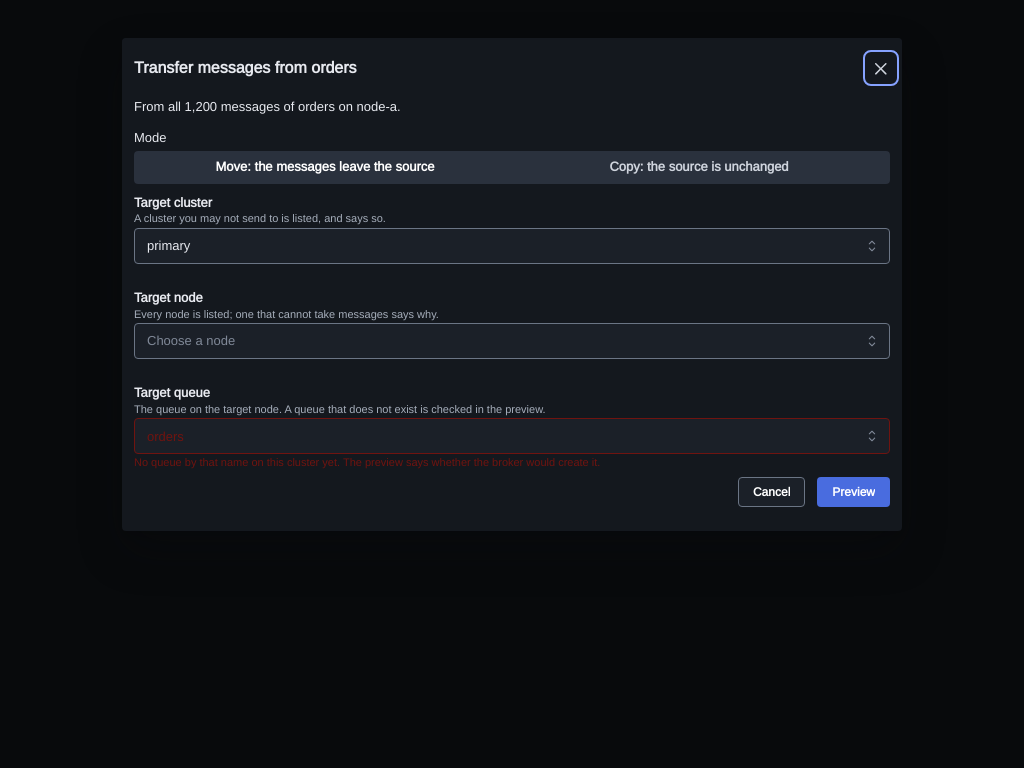
Scenario: TransferDialog destination › targets another cluster, whose nodes are all choosable, and names it in the preview
Click the dropdown labelled "Target cluster" at (512, 246), box [134,228,890,264]
(page scrolled)
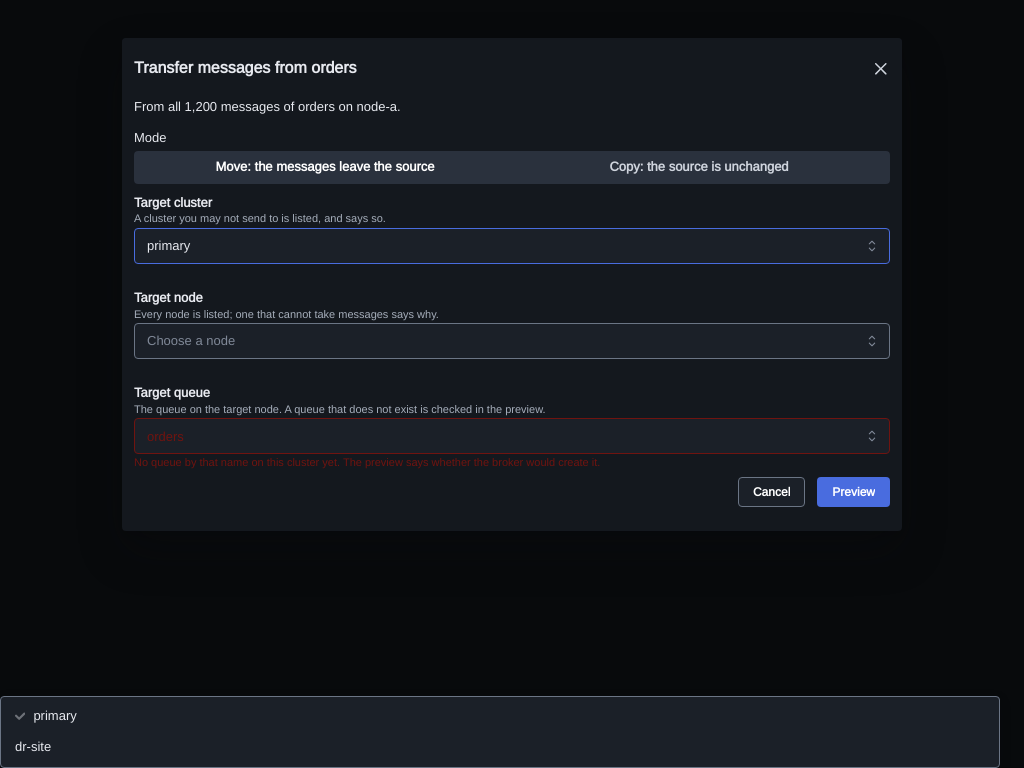
Click the option "dr-site" at (33, 746), box [15,738,51,755]
(page scrolled)
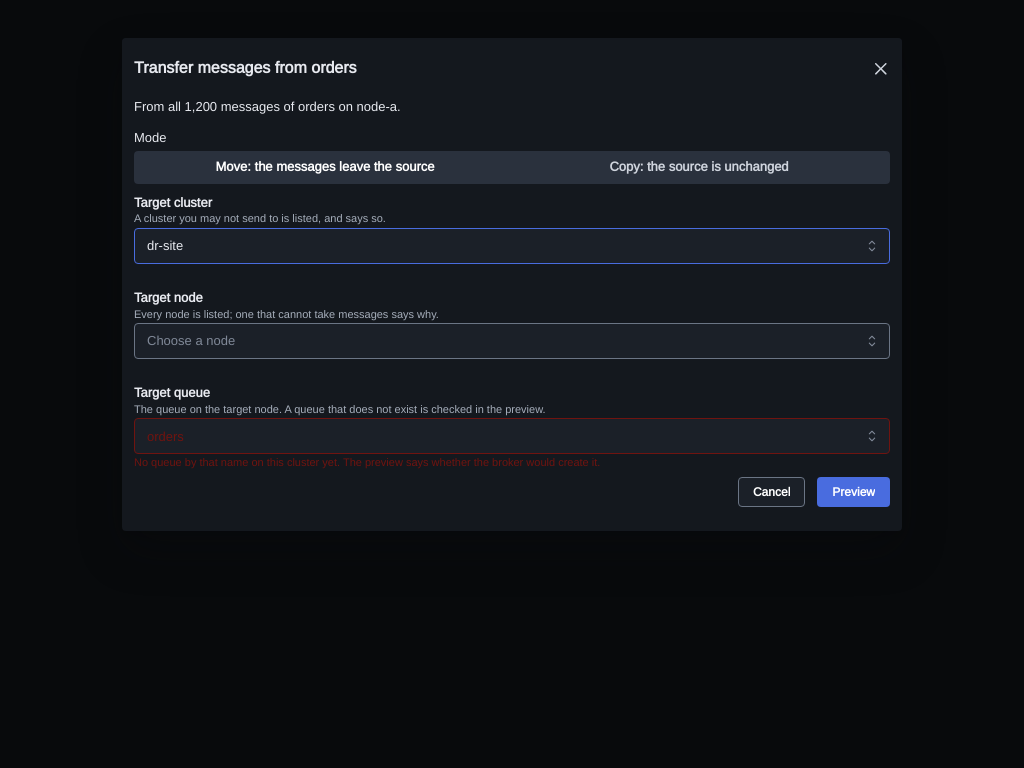
Click the dropdown labelled "Target node" at (512, 341), box [134,323,890,359]
(page scrolled)
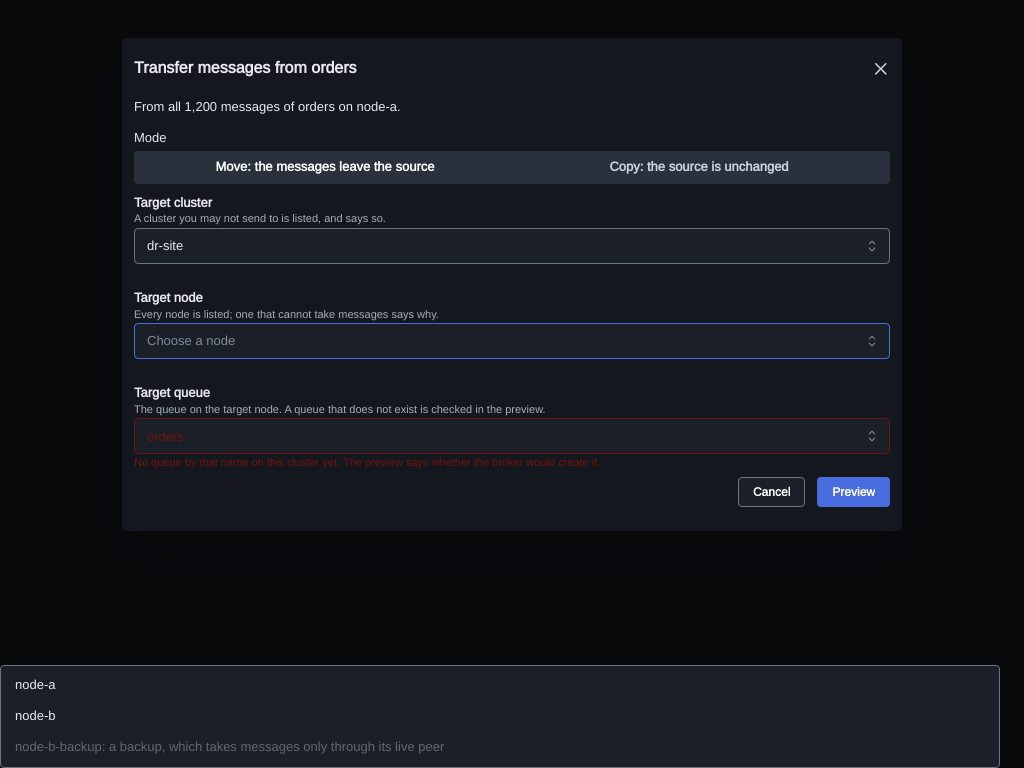
Click the option "node-a" at (35, 684), box [15,676,56,693]
(page scrolled)
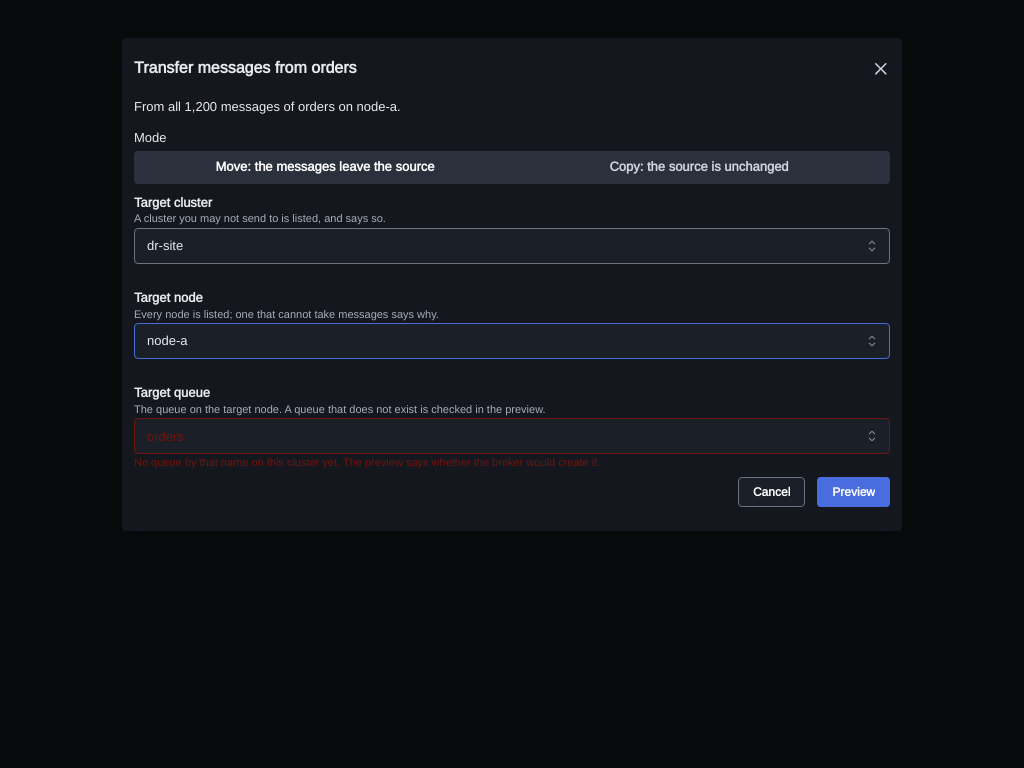
Replace the text in the field labelled "Target queue" with "  orders-dr  " at (512, 436), box [134,418,890,454]
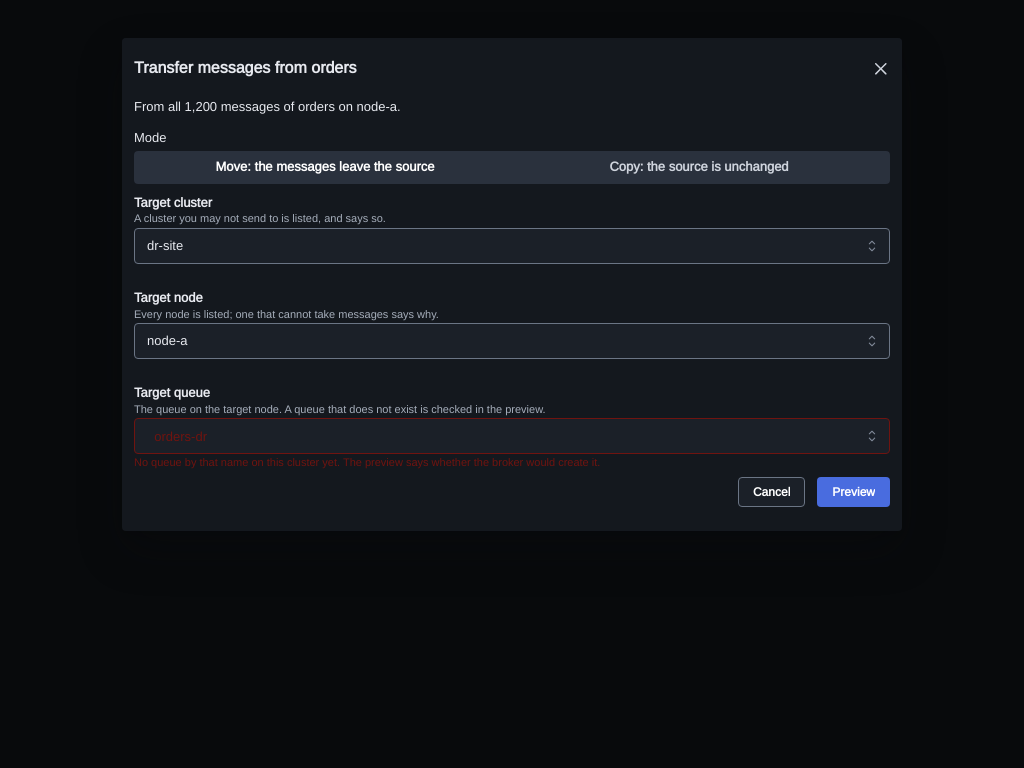
Click the button "Preview" at (854, 492), box [817,477,890,507]
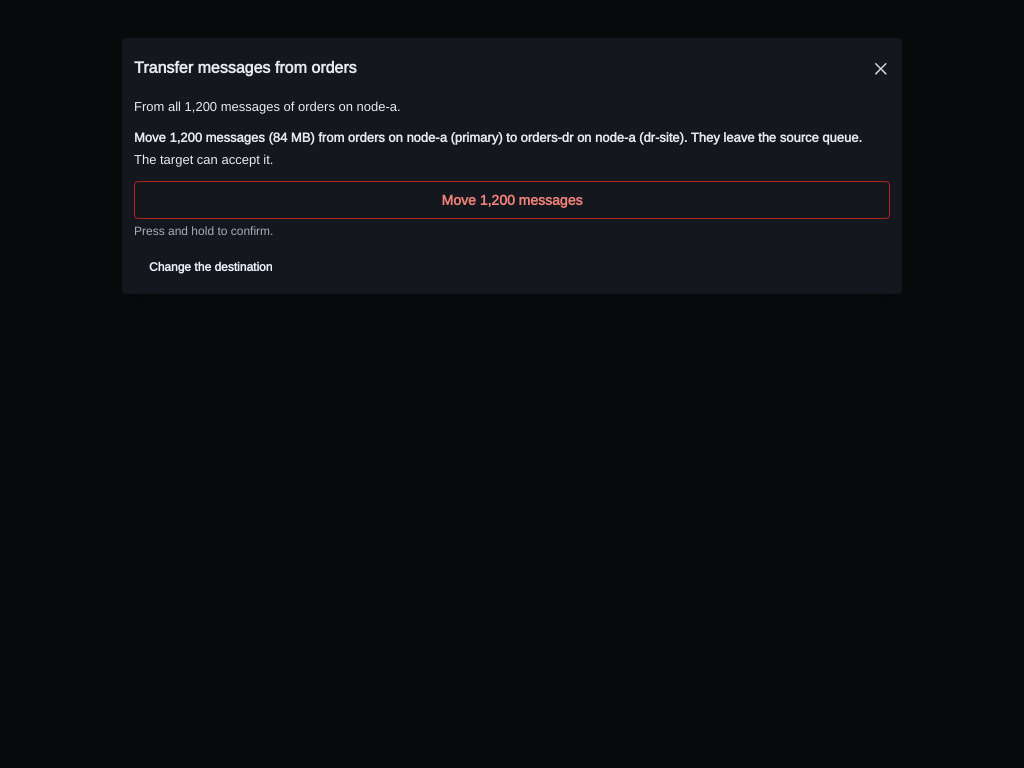
Expected: the text "to orders-dr on node-a (dr-site). They leave the source queue." is shown, [134,129,862,146]
